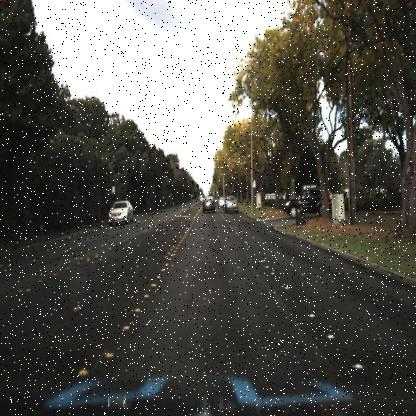car: (281, 184, 332, 221), (106, 192, 136, 226), (104, 196, 135, 226), (222, 190, 244, 218), (198, 191, 220, 216), (217, 192, 227, 209)
